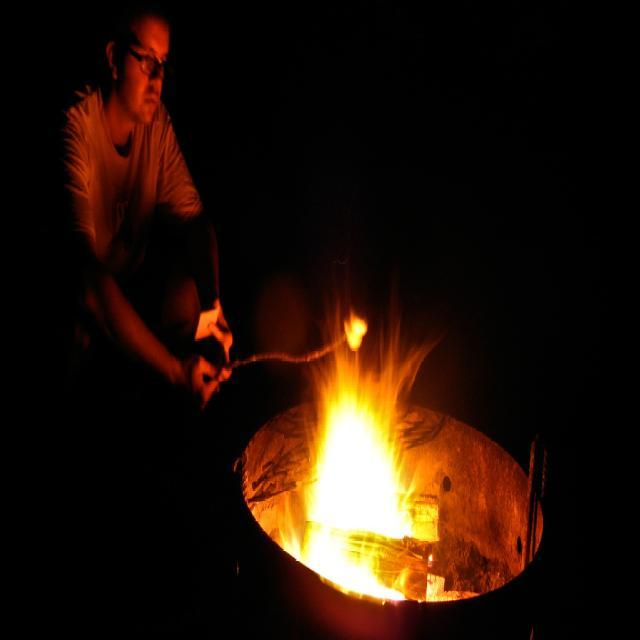Fire: (336, 419, 390, 530)
